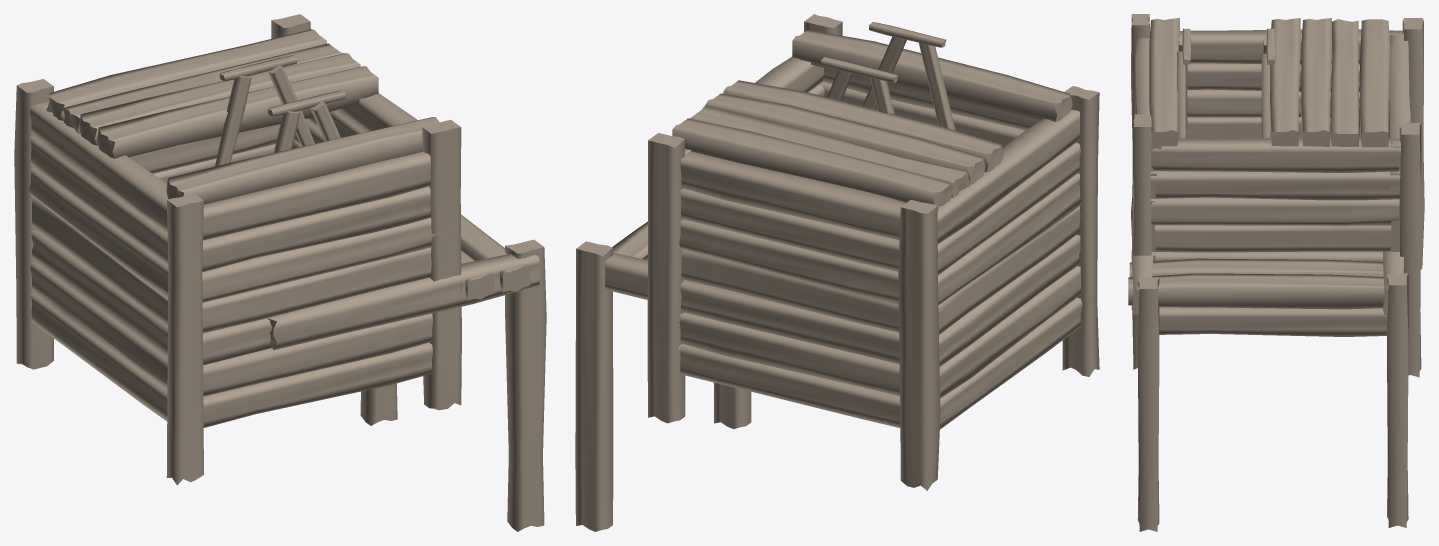
File: Plataforma q safa.fbx
3 renders of one model, left to right at view 1: azimuth 30°, elevation 25°; view 2: azimuth 150°, elevation 25°; view 3: azimuth 270°, elevation 25°, orthographic. The views are drawn at different scales.
Visible parts, largest first — view 1: polySurface51; view 2: polySurface51; view 3: polySurface51.
Boxes of the visible parts, x1=… form: polySurface51: x1=14, y1=14, x2=546, y2=531; polySurface51: x1=575, y1=14, x2=1099, y2=531; polySurface51: x1=1128, y1=14, x2=1424, y2=531.
Bounding box in the file's own units: 26.11 × 30.54 × 20.58.
